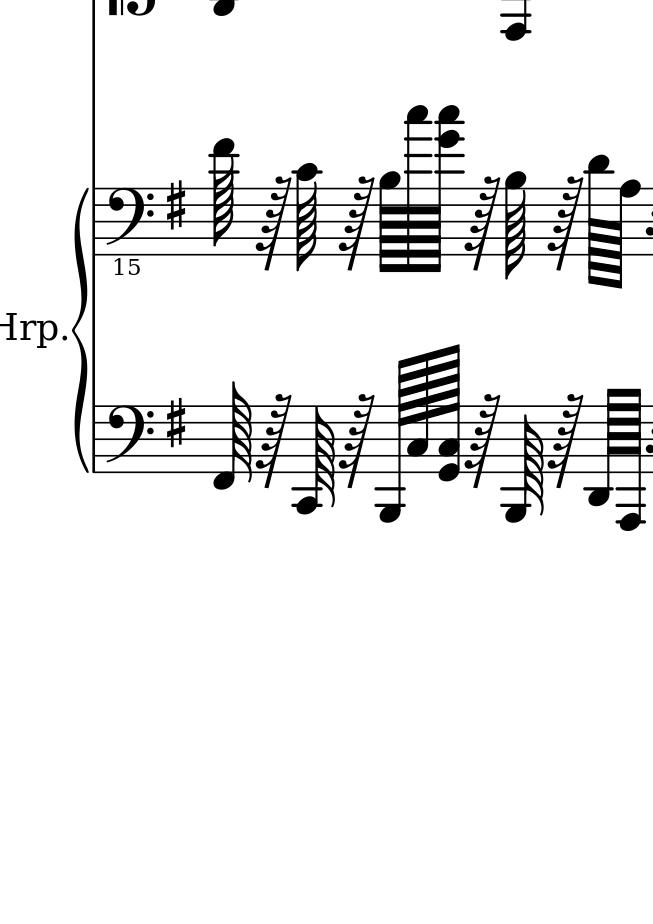128_-1: (212, 381, 254, 489)
128_-3: (583, 387, 617, 507)
128_-4: (294, 404, 338, 514)
128_-5: (376, 357, 407, 522), (503, 405, 546, 523)
128_-6: (617, 387, 646, 530)
128_10: (292, 161, 322, 274)
128_11: (587, 155, 610, 286)
128_13: (209, 137, 237, 256)
128_17: (400, 104, 431, 274)
128_3: (407, 354, 430, 473)
128_8: (611, 178, 641, 290)
128_9: (504, 170, 527, 277), (377, 170, 400, 275)
Brace: (72, 186, 92, 473)
DLower_Fclef: (104, 186, 154, 278)
Fclef: (103, 404, 155, 476)
Hrp: (1, 309, 61, 347)
Rests128: (546, 173, 583, 272), (463, 172, 500, 271), (337, 175, 374, 273), (256, 176, 293, 274), (254, 392, 291, 490), (338, 393, 375, 491), (464, 391, 501, 489), (548, 390, 585, 488)
Sharp: (162, 395, 188, 453), (162, 178, 188, 234)
Single_barline: (89, 188, 103, 253), (89, 407, 102, 471)
